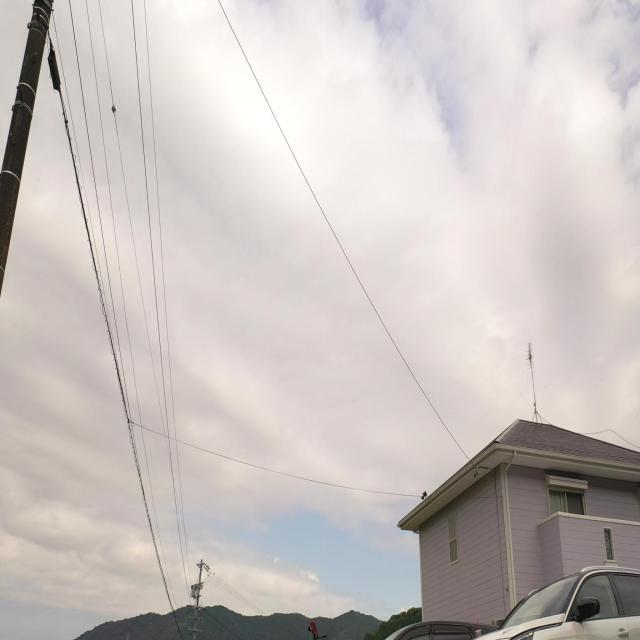Birds: (419, 487, 429, 503)
